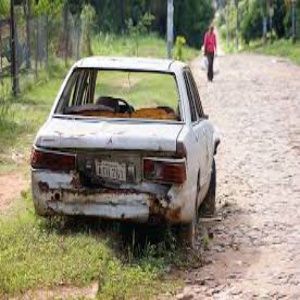bumper: (36, 185, 196, 227)
